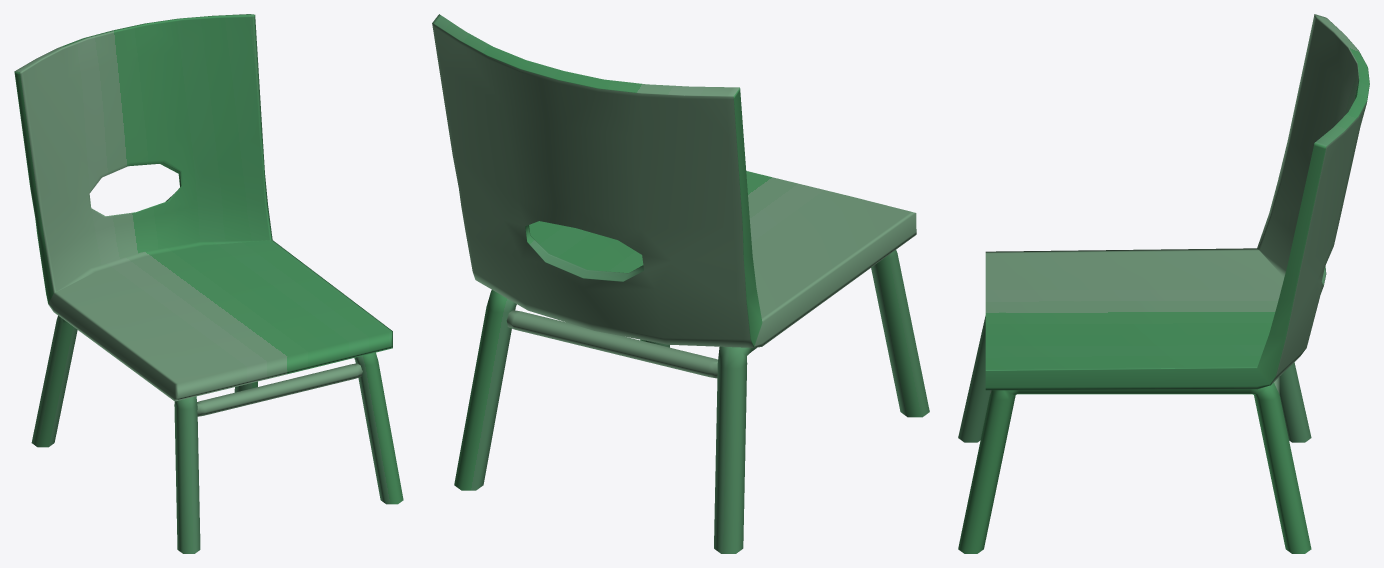
File: a_sch_class_obj_chair_green.gltf
3 renders of one model, left to right at view 1: azimuth 30°, elevation 25°; view 2: azimuth 150°, elevation 25°; view 3: azimuth 270°, elevation 25°, orthographic. The views are drawn at different scales.
Parts seen in each view (by area): view 1: a_sch_class_obj_chair_green_mesh_shape:a_sch_class_obj_chair; view 2: a_sch_class_obj_chair_green_mesh_shape:a_sch_class_obj_chair; view 3: a_sch_class_obj_chair_green_mesh_shape:a_sch_class_obj_chair.
Part boxes in pixels (box(x1,y1,x2,y2)): a_sch_class_obj_chair_green_mesh_shape:a_sch_class_obj_chair: box(14, 14, 403, 553); a_sch_class_obj_chair_green_mesh_shape:a_sch_class_obj_chair: box(432, 14, 929, 553); a_sch_class_obj_chair_green_mesh_shape:a_sch_class_obj_chair: box(958, 14, 1369, 553).
Bounding box in the file's own units: 0.5285 × 0.7921 × 0.7121.
Materials: 1 (1 with a texture image).
